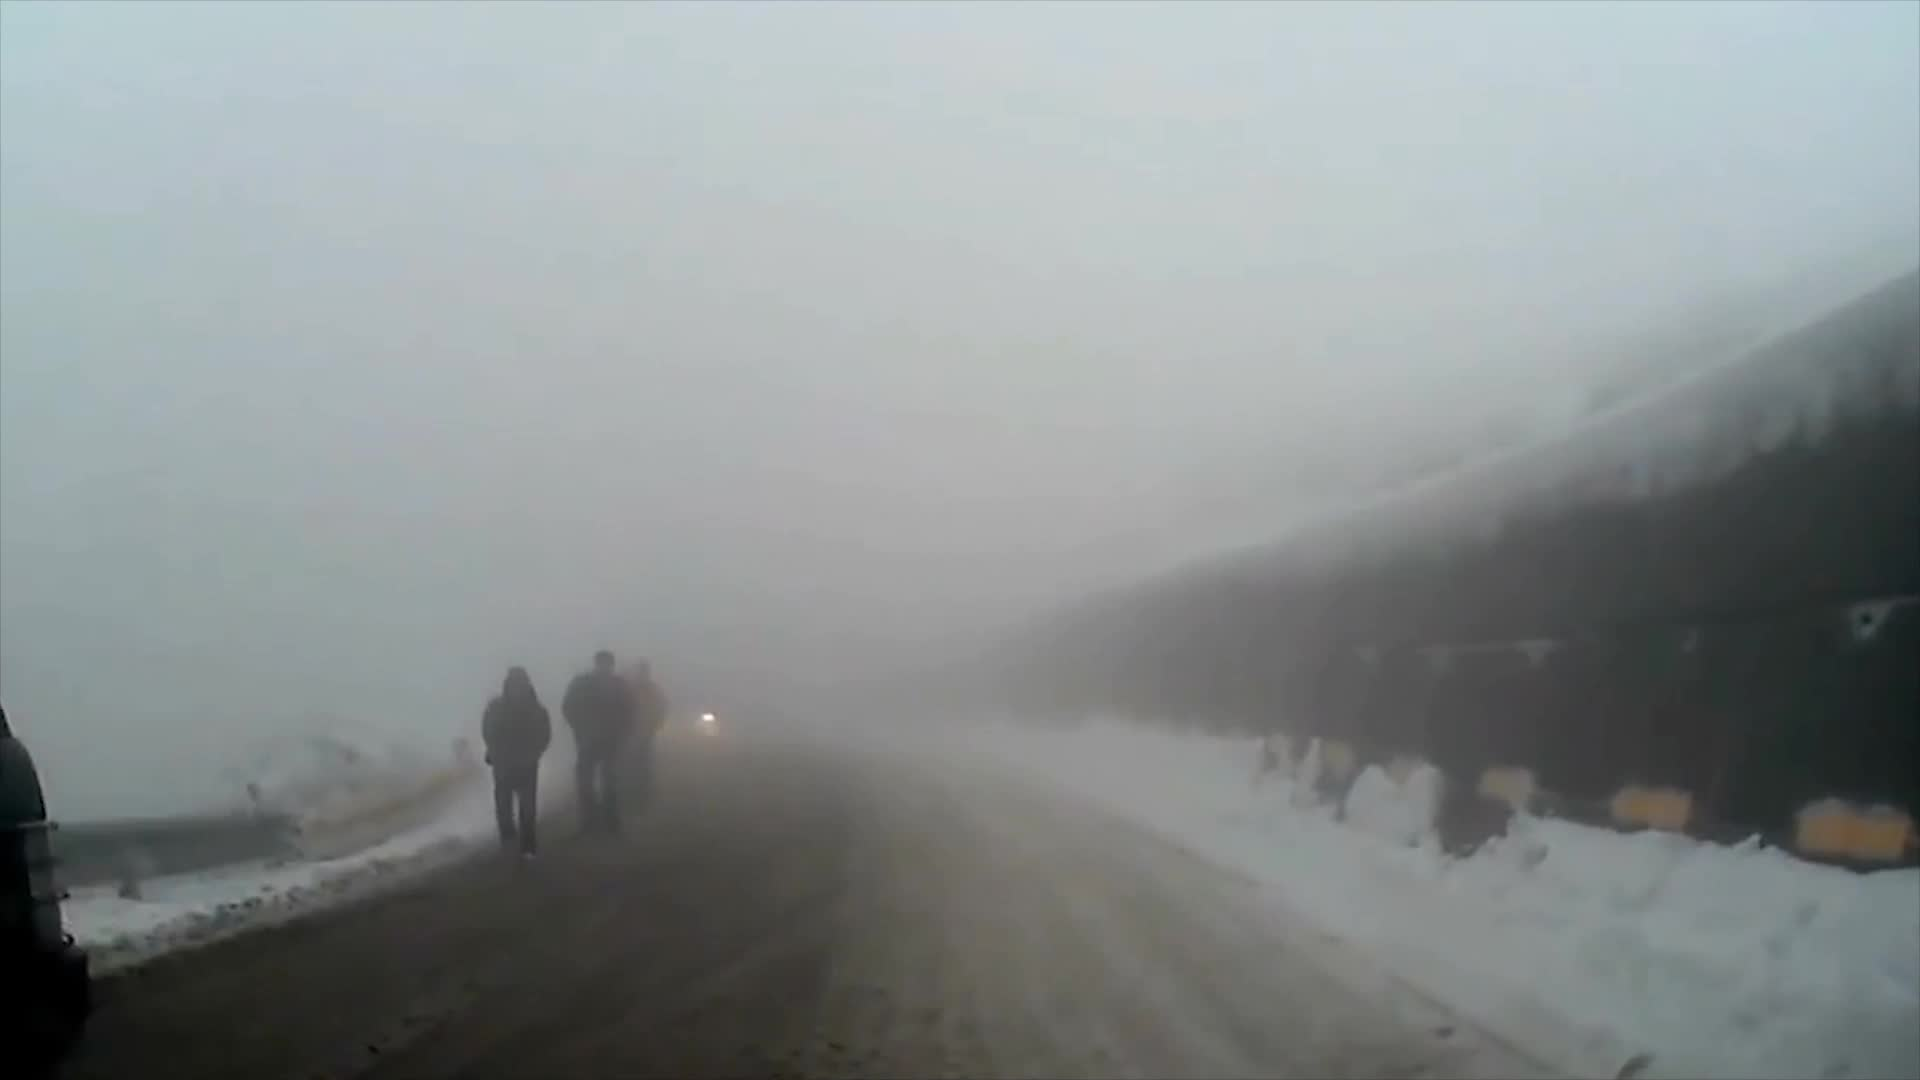pedestrian: (476, 665, 557, 864), (562, 649, 636, 835), (614, 655, 669, 820)
vehicle: (0, 685, 96, 1079)
